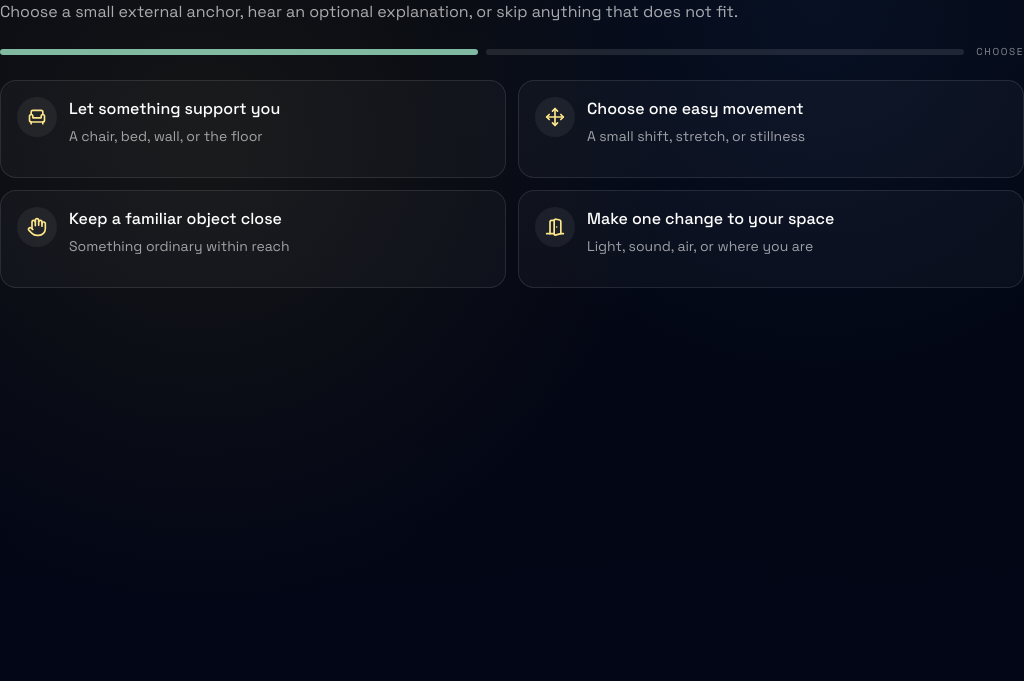
it: BodyScanTool legacy route › offers practical grounding choices without body ratings or written check-ins
The width and height of the screenshot is (1024, 681).
expect the text "Choose a small external anchor, hear an optional explanation" is shown: met, box [0,1,738,22]
Click the button "Let something support you A chair, bed, wall, or the floor".
click(253, 129)  # box [1,81,505,177]
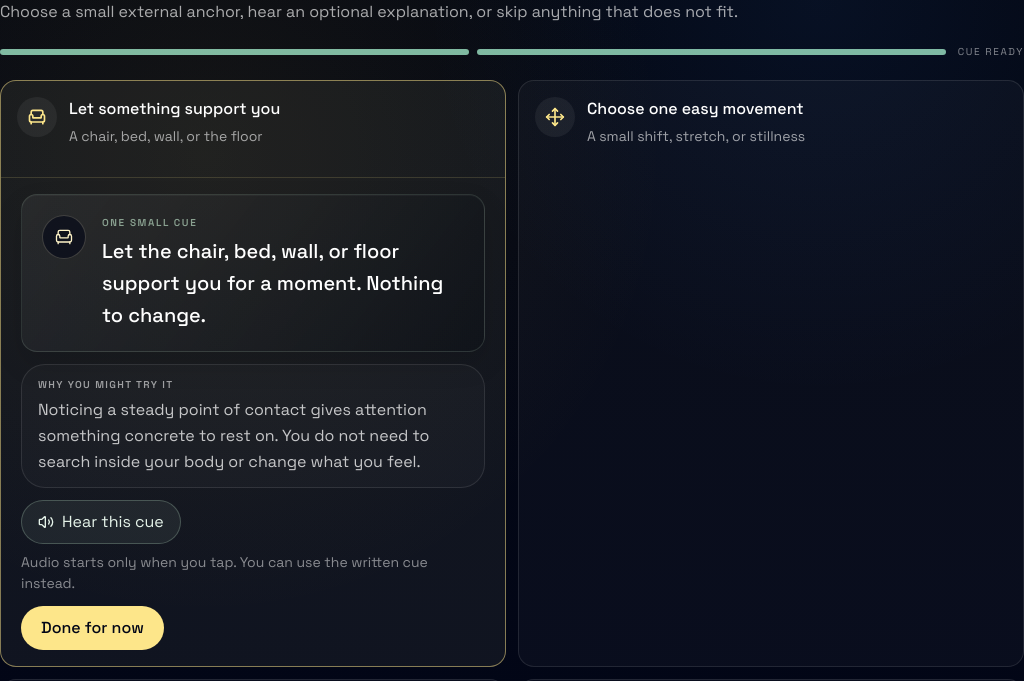
expect the element named "Let something support you" shows "Let the chair, bed, wall, or floor support you": met, box [102,238,443,328]
expect the button "Done for now" is shown: met, box [21,606,164,650]
